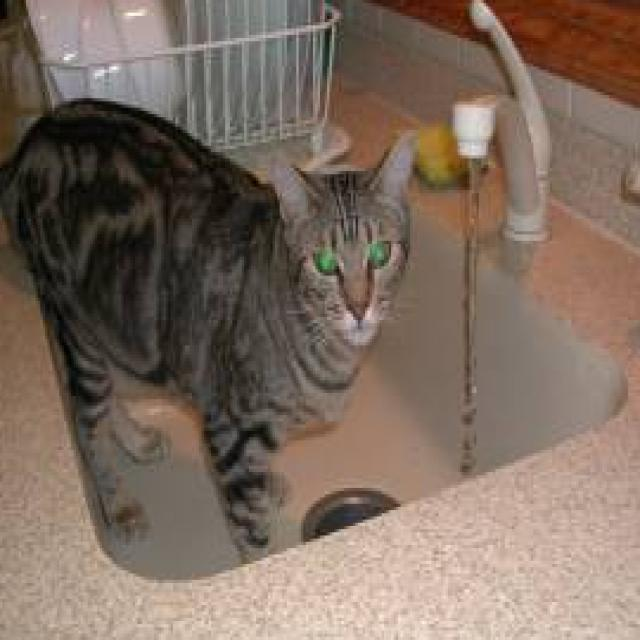Bengal: (0, 73, 424, 564)
